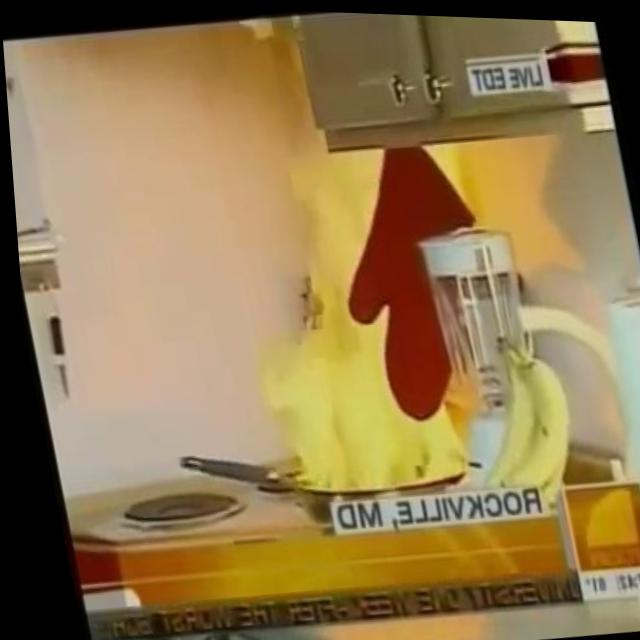fire: (222, 130, 517, 500)
